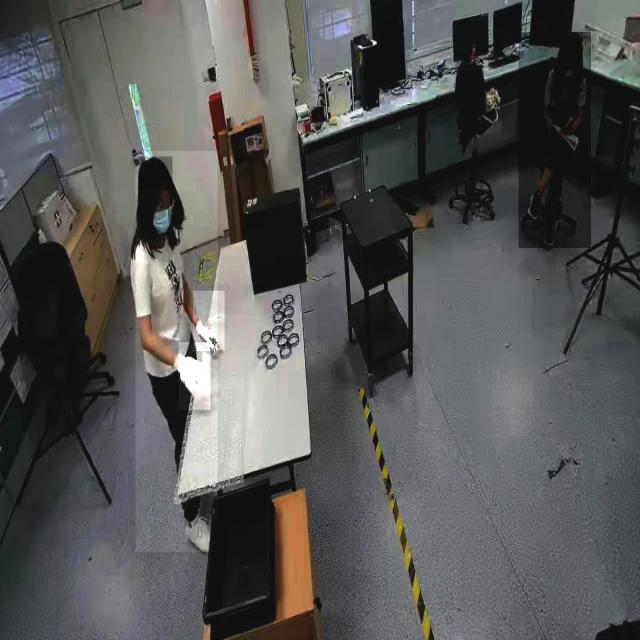face_mask: (150, 196, 176, 240)
hand_glove: (178, 342, 210, 411), (193, 291, 225, 351)
hand_noglove: (560, 119, 572, 136), (546, 114, 556, 134)
head_nohelmet: (138, 157, 172, 191), (561, 32, 583, 51)
person: (135, 151, 217, 553), (518, 32, 591, 249)
shoes: (181, 504, 215, 556), (541, 207, 560, 250), (525, 183, 545, 219)
